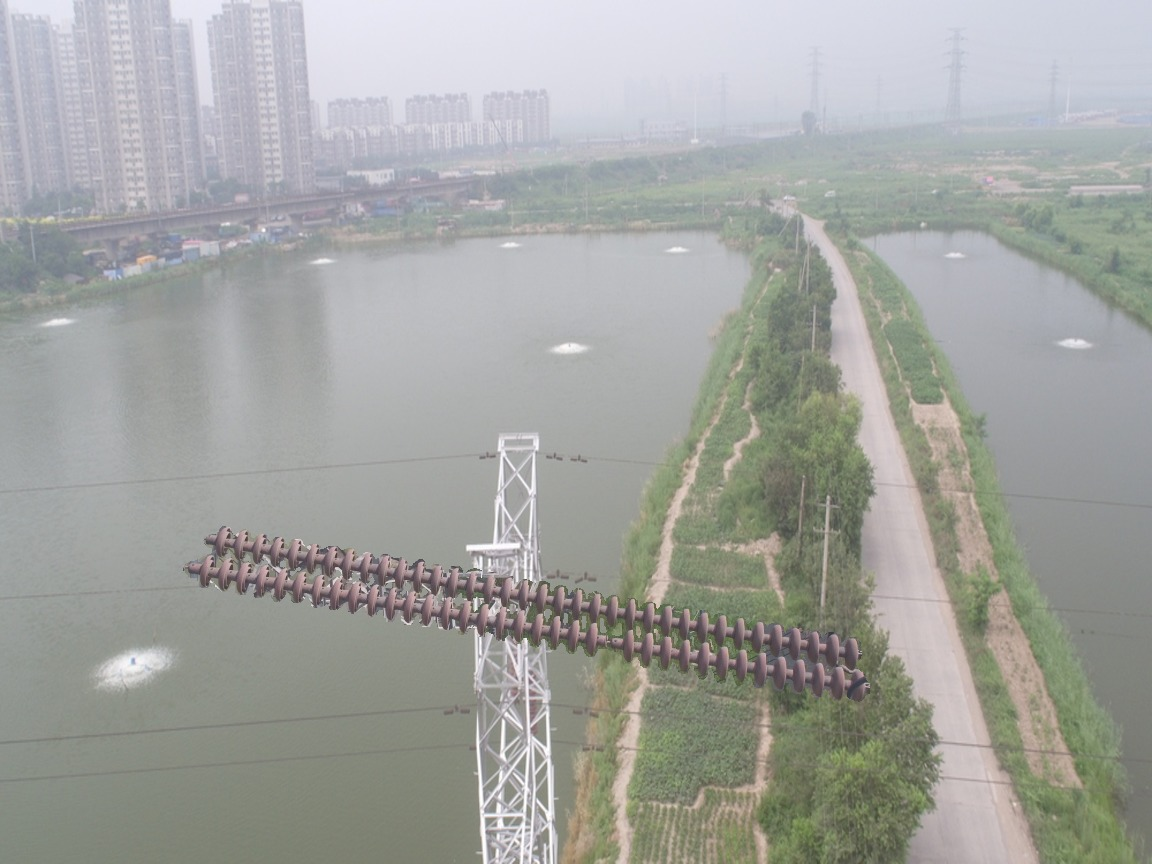defect: (580, 613, 641, 659)
